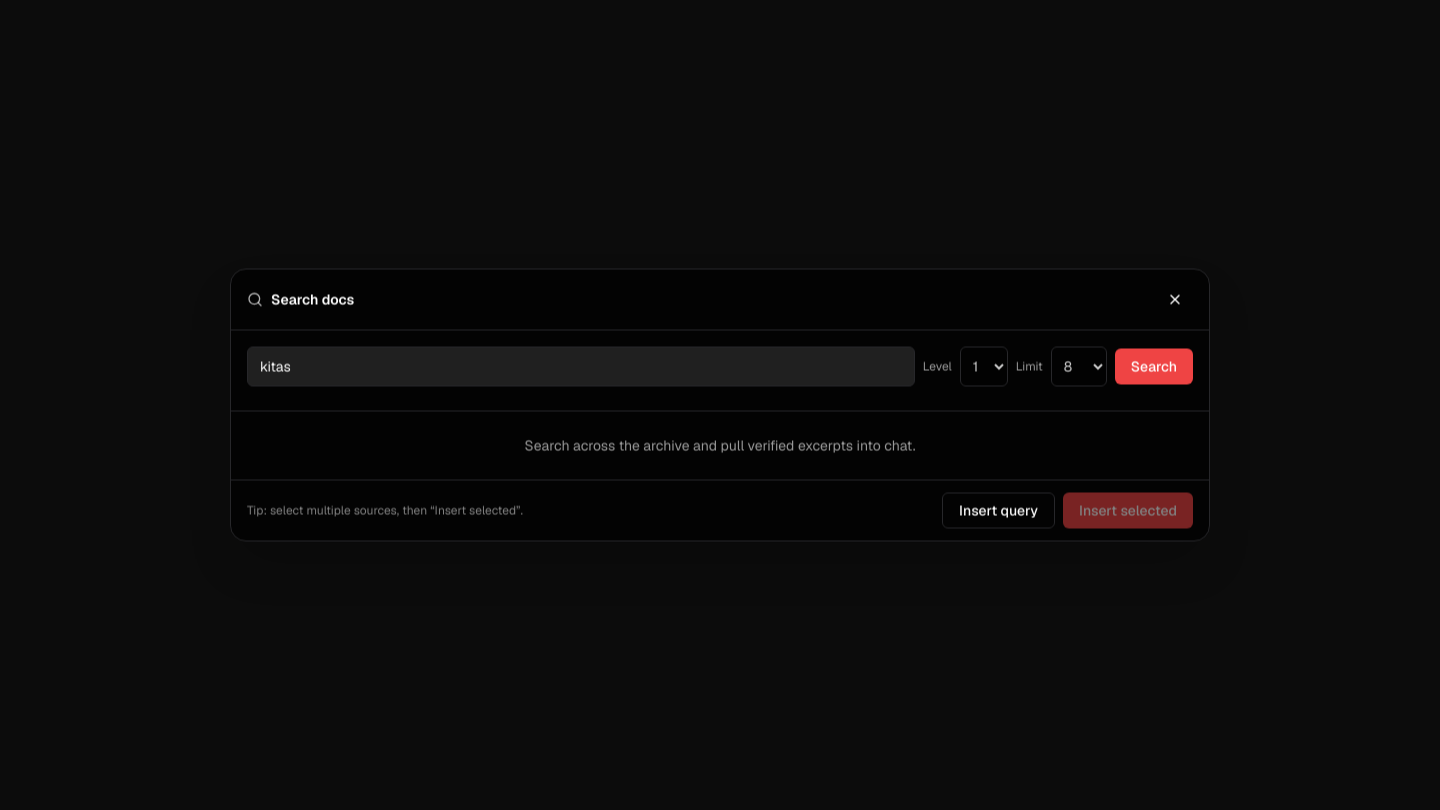
Test: SearchDocsModal › requires authentication before performing search
This screenshot has width=1440, height=810.
Step 1. Click the button "Search" → click(1154, 366), box [1115, 348, 1193, 384]
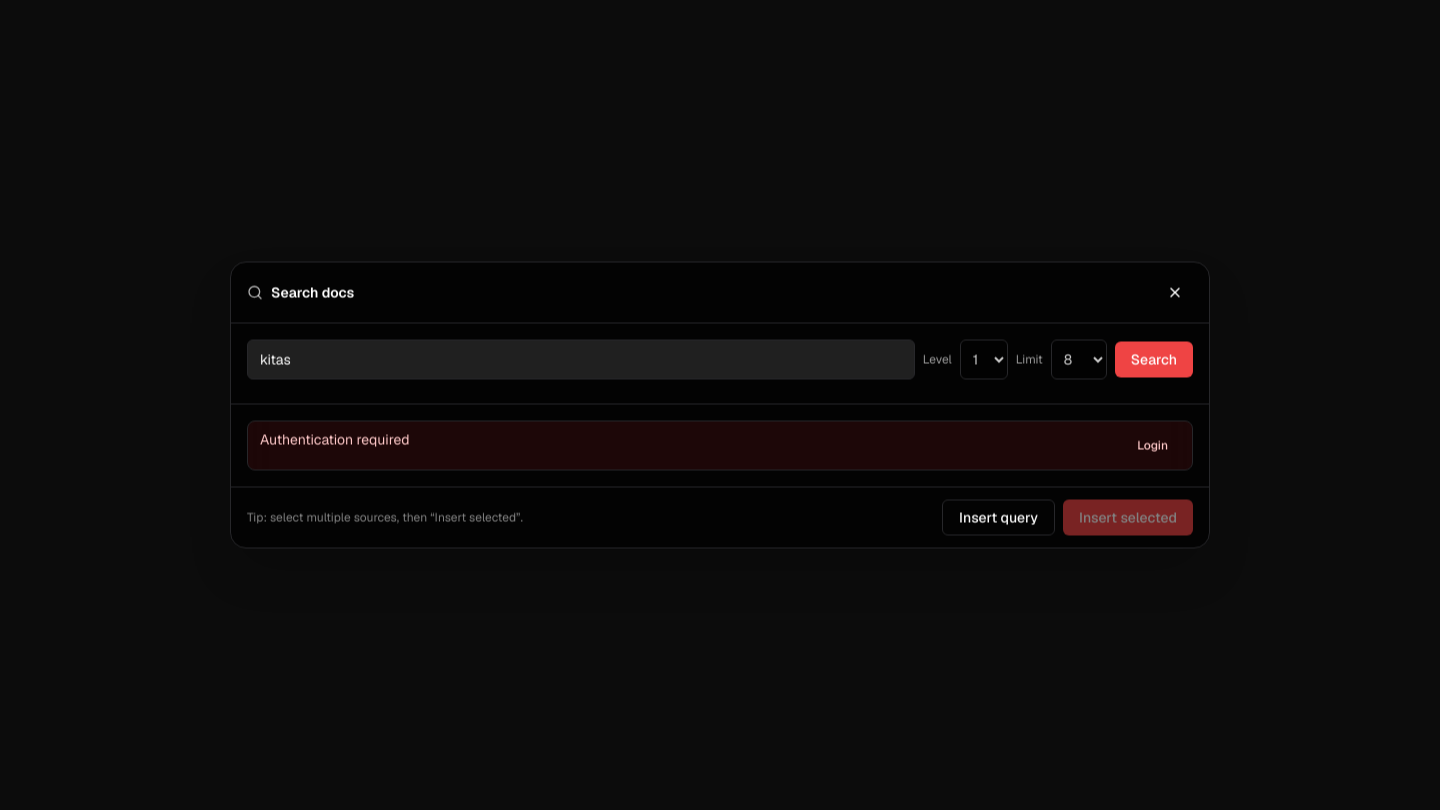
Check: the text "Authentication required" is shown, box [260, 430, 410, 450]
Check: the button "Login" is shown, box [1125, 430, 1180, 462]
